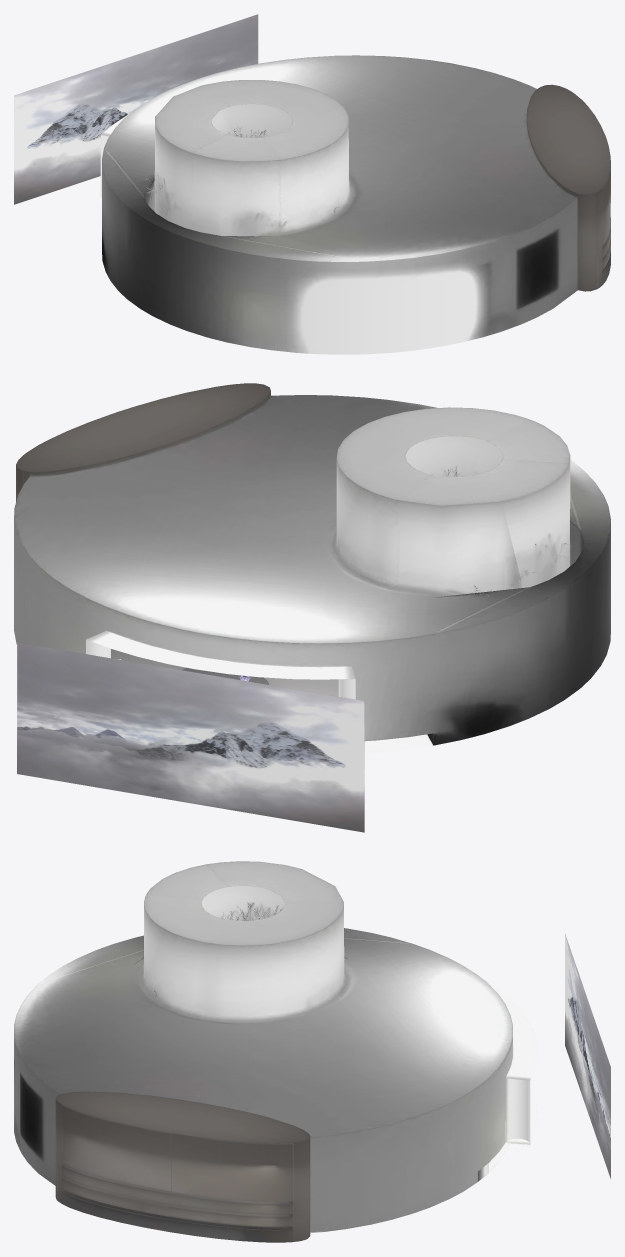
File: zen.glb
3 renders of one model, top to bottom at view 1: azimuth 30°, elevation 25°; view 2: azimuth 150°, elevation 25°; view 3: azimuth 270°, elevation 25°, orthographic. The views are drawn at different scales.
Visible parts, largest first — view 1: house, scence, box; view 2: house, scence, box, carpet; view 3: house, box, scence.
Boxes of the visible parts, <box> form: house: <box>100,55,577,354</box>; scence: <box>14,14,258,204</box>; box: <box>526,84,610,291</box>; house: <box>14,395,610,753</box>; scence: <box>17,642,364,832</box>; box: <box>16,383,270,501</box>; carpet: <box>111,649,338,696</box>; house: <box>14,861,537,1232</box>; box: <box>55,1091,310,1242</box>; scence: <box>565,933,610,1178</box>.
Bounding box in the file's own units: 31.31 × 11.92 × 35.12.
Materials: 22 (20 with a texture image).
